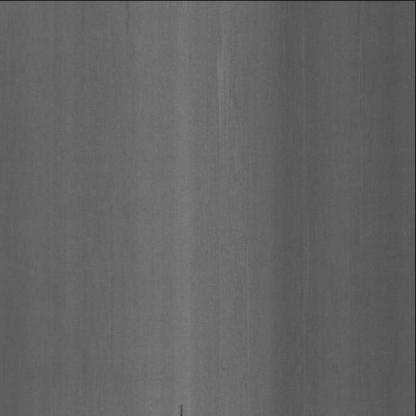inclusion: (174, 399, 192, 416)
